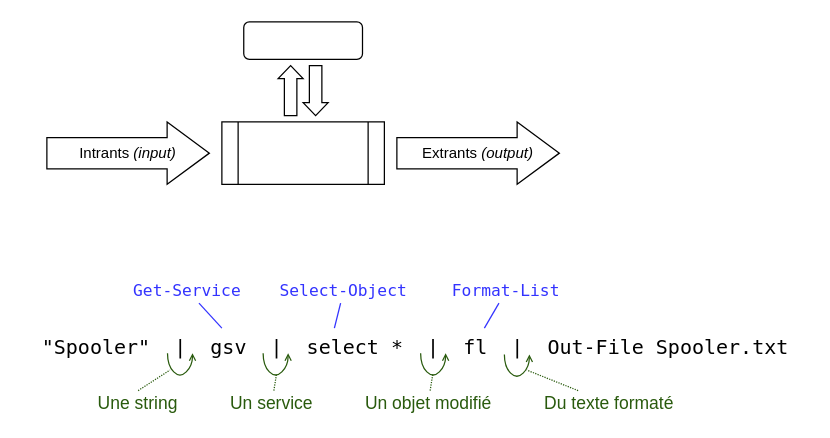
This 830x438 diagram has some shape labels left out. The box of each missing label's shape, as (x1, y1, x2, y2) in pixels:
Système: (242, 21, 362, 59)
Traitement: (221, 121, 384, 184)
